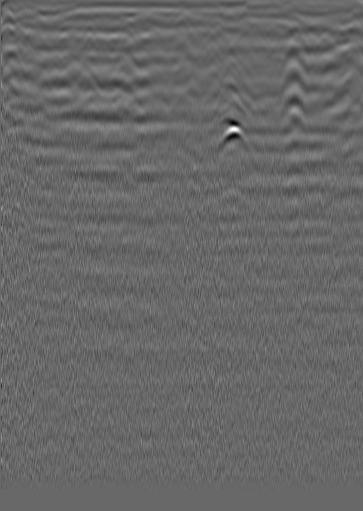가스: (213, 118, 256, 157)
상수: (303, 16, 323, 36)
오수: (33, 11, 53, 31)
우수: (167, 17, 187, 37)
